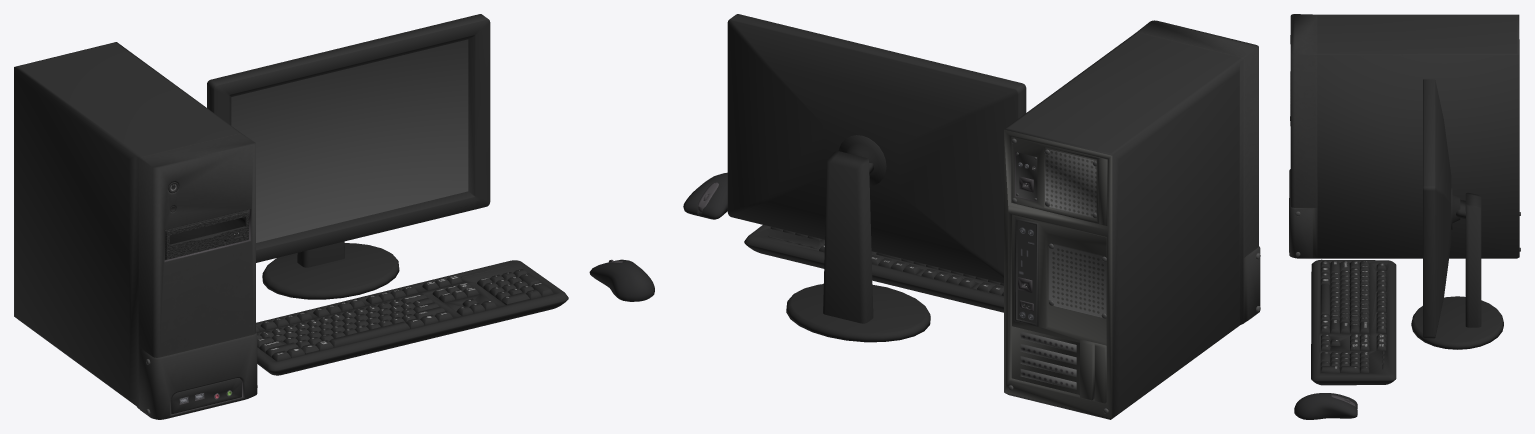
The model's file is Computer.obj.
The picture shows the model from 3 angles, left to right: view 1: azimuth 30°, elevation 25°; view 2: azimuth 150°, elevation 25°; view 3: azimuth 270°, elevation 25°; orthographic projection. The views are drawn at different scales.
Visible parts, largest first — view 1: Object.1, Front_Panel, CD_ROM; view 2: Object.1; view 3: Object.1.
Part boxes in pixels (box(x1,y1,x2,y2)): Object.1: box(14, 14, 654, 419); Front_Panel: box(165, 211, 248, 259); CD_ROM: box(168, 212, 244, 244); Object.1: box(683, 14, 1260, 419); Object.1: box(1289, 14, 1520, 419).
Bounding box in the file's own units: 1225 × 578 × 591.
4 materials, 2 textured.
